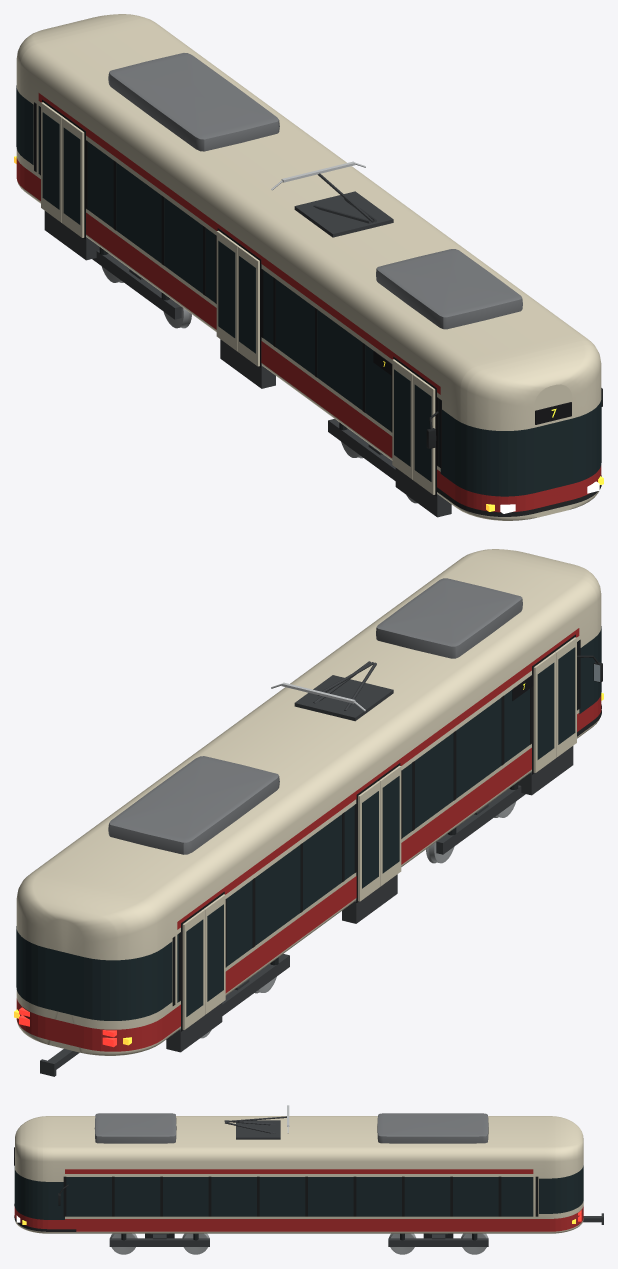
Rendered from PT_Tram_City.glb.
3 views of the same model, one above another, from view 1: azimuth 30°, elevation 25°; view 2: azimuth 150°, elevation 25°; view 3: azimuth 270°, elevation 25° (orthographic). The views are drawn at different scales.
Visible parts, largest first — view 1: Body.002, Roof_Equipment, Glass_Side.001, Glass_Windscreen.002, Livery_Skirt, Livery_Roofline.001, Pillar_R.001, Pantograph_Base, Door_3_B_Glass.001, Door_2_B_Glass.001, Door_3_A_Glass.001, Bogie_R_Frame (+15 smaller); view 2: Body.002, Roof_Equipment, Glass_Side.001, Livery_Skirt, Glass_Rear.002, Livery_Roofline.001, Pillar_R.001, Pantograph_Base, Door_2_A_Glass.001, Door_3_B_Glass.001, Door_1_A_Glass.001, Door_1_B_Glass.001 (+14 smaller); view 3: Body.002, Glass_Side.001, Livery_Skirt, Roof_Equipment, Livery_Roofline.001, Glass_Windscreen.002, Glass_Rear.002, Pillar_L.001, Bogie_F_Frame, Bogie_R_Frame, Pantograph_Base, Pantograph_Arms (+4 smaller).
Part boxes in pixels (x1,y1,x2,y2): Body.002: (16, 14, 601, 520); Roof_Equipment: (108, 53, 522, 329); Glass_Side.001: (38, 106, 439, 466); Glass_Windscreen.002: (440, 397, 601, 496); Livery_Skirt: (16, 157, 601, 512); Livery_Roofline.001: (38, 93, 440, 394); Pillar_R.001: (34, 102, 441, 468); Pantograph_Base: (294, 191, 393, 237); Door_3_B_Glass.001: (42, 112, 59, 209); Door_2_B_Glass.001: (218, 240, 235, 337); Door_3_A_Glass.001: (63, 127, 80, 224); Bogie_R_Frame: (92, 250, 181, 319); Body.002: (16, 549, 601, 1055); Roof_Equipment: (108, 578, 522, 854); Glass_Side.001: (177, 641, 578, 1002); Livery_Skirt: (16, 694, 601, 1051); Glass_Rear.002: (16, 926, 172, 1020); Livery_Roofline.001: (177, 628, 579, 929); Pillar_R.001: (172, 639, 580, 1005); Pantograph_Base: (294, 675, 393, 721); Door_2_A_Glass.001: (382, 776, 399, 873); Door_3_B_Glass.001: (186, 919, 203, 1016); Door_1_A_Glass.001: (558, 647, 575, 744); Door_1_B_Glass.001: (537, 662, 554, 759); Body.002: (15, 1116, 583, 1233); Glass_Side.001: (66, 1177, 533, 1216); Livery_Skirt: (14, 1206, 583, 1231); Roof_Equipment: (94, 1113, 488, 1143); Livery_Roofline.001: (65, 1169, 533, 1173); Glass_Windscreen.002: (14, 1166, 64, 1219); Glass_Rear.002: (539, 1165, 583, 1213); Pillar_L.001: (63, 1176, 538, 1216); Bogie_F_Frame: (109, 1233, 209, 1246); Bogie_R_Frame: (388, 1233, 488, 1246); Pantograph_Base: (236, 1120, 280, 1139); Pantograph_Arms: (224, 1116, 286, 1133).
Size of the model in its own units: 3.16 by 3.76 by 15.87.
